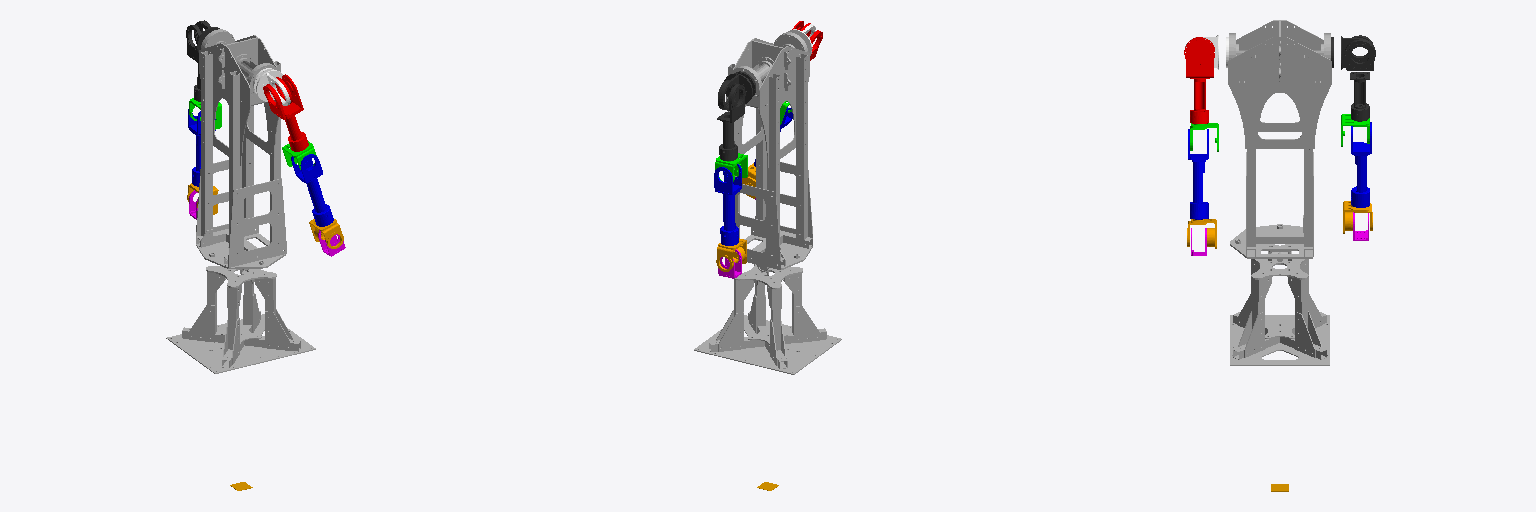
robot.urdf — neurobotboth:
<robot
  name="neurobotboth">
  <link 
    name="base">
    <visual>
    <origin rpy="0 0 0" xyz="0 0 0"/>
    <geometry>
       <box size="0.05 0.05 0.001"/>
    </geometry>
    <material name="TransparentGreen"/>
    </visual>
  </link>
  <link
    name="base_footprint">
    <inertial>
      <origin
        xyz="0 -1.11022302462516E-16 0.2335"
        rpy="0 0 0" />
      <mass
        value="4.43804940190996" />
      <inertia
        ixx="0.0840137545279562"
        ixy="0"
        ixz="-5.53246823430371E-34"
        iyy="0.0840137545279562"
        iyz="1.8876145408187E-34"
        izz="0.00671254972038881" />
    </inertial>
    <visual>
      <origin
        xyz="0 0 0"
        rpy="0 0 0" />
      <geometry>
        <mesh
          filename="package://neurobotboth/meshes/base_footprint.stl" />
      </geometry>
      <material
        name="">
        <color
          rgba="1 1 1 1" />
      </material>
    </visual>
    <collision>
      <origin
        xyz="0 0 0"
        rpy="0 0 0" />
      <geometry>
        <mesh
          filename="package://neurobotboth/meshes/base_footprint.stl" />
      </geometry>
    </collision>
  </link>
  <joint name="joint_footprint" type="fixed">
    <origin rpy="0 0 0" xyz="0 0 0"/>
    <parent link="base"/>
    <child link="base_footprint"/>
  </joint>
  <link
    name="base_link">
    <inertial>
      <origin
        xyz="-0.00215359092121389 -0.000793224055706809 0.502026253045581"
        rpy="0 0 0" />
      <mass
        value="2.59431720777893" />
      <inertia
        ixx="0.3523313561318"
        ixy="0.000539614748826474"
        ixz="0.00816862739544269"
        iyy="0.351242034325023"
        iyz="-0.00125197561514708"
        izz="0.0345525607669928" />
    </inertial>
    <visual>
      <origin
        xyz="0 0 0"
        rpy="0 0 0" />
      <geometry>
        <mesh
          filename="package://neurobotboth/meshes/base_link.stl" />
      </geometry>
      <material
        name="">
        <color
          rgba="0.752941176470588 0.752941176470588 0.752941176470588 1" />
      </material>
    </visual>
    <collision>
      <origin
        xyz="0 0 0"
        rpy="0 0 0" />
      <geometry>
        <mesh
          filename="package://neurobotboth/meshes/base_link.stl" />
      </geometry>
    </collision>
  </link>
  <joint
    name="joint_base"
    type="fixed">
    <origin
      xyz="-0.0056343 4.8341E-05 0.467"
      rpy="0 0 0" />
    <parent
      link="base_footprint" />
    <child
      link="base_link" />
    <axis
      xyz="0 0 0" />
  </joint>
  <link
    name="right_arm_link_0">
  </link>
  <joint
    name="right_arm_joint_0"
    type="fixed">
    <origin
      xyz="0.0056343 -0.14605 0.919"
      rpy="1.5708 0.30972 -3.1416" />
    <parent
      link="base_link" />
    <child
      link="right_arm_link_0" />
    <axis
      xyz="0 0 0" />
  </joint>
  <link
    name="right_arm_link_1">
    <inertial>
      <origin
        xyz="-0.000327200298236963 -1.66533453693773E-16 -0.0359628362808107"
        rpy="0 0 0" />
      <mass
        value="0.107035798022397" />
      <inertia
        ixx="0.000188785968780782"
        ixy="-7.68864379368039E-21"
        ixz="-1.68236451485131E-06"
        iyy="0.000157075498484323"
        iyz="-2.07212052166984E-19"
        izz="0.000125761271549389" />
    </inertial>
    <visual>
      <origin
        xyz="0 0 0"
        rpy="0 0 0" />
      <geometry>
        <mesh
          filename="package://neurobotboth/meshes/right_arm_link_1.stl" />
      </geometry>
      <material
        name="">
        <color
          rgba="1 1 1 1" />
      </material>
    </visual>
    <collision>
      <origin
        xyz="0 0 0"
        rpy="0 0 0" />
      <geometry>
        <mesh
          filename="package://neurobotboth/meshes/right_arm_link_1.stl" />
      </geometry>
    </collision>
  </link>
  <joint
    name="right_arm_joint_1"
    type="revolute">
    <origin
      xyz="0 0 -0.001"
      rpy="0 0 0" />
    <parent
      link="right_arm_link_0" />
    <child
      link="right_arm_link_1" />
    <axis
      xyz="0 0 1" />
    <limit
      lower="-1.57"
      upper="1.57"
      effort="2"
      velocity="0.5" />
  </joint>
  <link
    name="right_arm_link_2">
    <inertial>
      <origin
        xyz="0.0650617938997774 -3.74272418668387E-06 0.00884791201131907"
        rpy="0 0 0" />
      <mass
        value="0.255566385563294" />
      <inertia
        ixx="0.00024551385027943"
        ixy="1.05634262378188E-07"
        ixz="1.70511900676993E-05"
        iyy="0.00127080560186476"
        iyz="1.1028518537721E-09"
        izz="0.00126072659055335" />
    </inertial>
    <visual>
      <origin
        xyz="0 0 0"
        rpy="0 0 0" />
      <geometry>
        <mesh
          filename="package://neurobotboth/meshes/right_arm_link_2.stl" />
      </geometry>
      <material
        name="">
        <color
          rgba="1 0 0 1" />
      </material>
    </visual>
    <collision>
      <origin
        xyz="0 0 0"
        rpy="0 0 0" />
      <geometry>
        <mesh
          filename="package://neurobotboth/meshes/right_arm_link_2.stl" />
      </geometry>
    </collision>
  </link>
  <joint
    name="right_arm_joint_2"
    type="revolute">
    <origin
      xyz="0.004 0 -0.084"
      rpy="1.5708 -2.1829E-14 -1.5708" />
    <parent
      link="right_arm_link_1" />
    <child
      link="right_arm_link_2" />
    <axis
      xyz="0 0 -1" />
    <limit
      lower="-0.78"
      upper="0.78"
      effort="2"
      velocity="0.5" />
  </joint>
  <link
    name="right_arm_link_3">
    <inertial>
      <origin
        xyz="0.0153020226123044 -5.81423797996194E-13 -0.0262980249667745"
        rpy="0 0 0" />
      <mass
        value="0.0789715110556532" />
      <inertia
        ixx="7.19666232277633E-05"
        ixy="1.68404549474258E-15"
        ixz="1.68863370887187E-05"
        iyy="0.000116283270534729"
        iyz="-6.41649606133214E-16"
        izz="0.000104168336512131" />
    </inertial>
    <visual>
      <origin
        xyz="0 0 0"
        rpy="0 0 0" />
      <geometry>
        <mesh
          filename="package://neurobotboth/meshes/right_arm_link_3.stl" />
      </geometry>
      <material
        name="">
        <color
          rgba="0 1 0.00392156862745098 1" />
      </material>
    </visual>
    <collision>
      <origin
        xyz="0 0 0"
        rpy="0 0 0" />
      <geometry>
        <mesh
          filename="package://neurobotboth/meshes/right_arm_link_3.stl" />
      </geometry>
    </collision>
  </link>
  <joint
    name="right_arm_joint_3"
    type="revolute">
    <origin
      xyz="0.204 0 0.01"
      rpy="-1.5708 3.8018E-11 1.5708" />
    <parent
      link="right_arm_link_2" />
    <child
      link="right_arm_link_3" />
    <axis
      xyz="0.0048522 0 0.99999" />
    <limit
      lower="-3.14"
      upper="3.14"
      effort="2"
      velocity="0.5" />
  </joint>
  <link
    name="right_arm_link_4">
    <inertial>
      <origin
        xyz="0.110286427763568 -2.47783699109938E-05 0.0247402908898989"
        rpy="0 0 0" />
      <mass
        value="0.1635924370838" />
      <inertia
        ixx="9.17176019284682E-05"
        ixy="3.47472024491752E-07"
        ixz="1.44062358020974E-05"
        iyy="0.000940638096634904"
        iyz="-9.43821184593951E-09"
        izz="0.000935522761596194" />
    </inertial>
    <visual>
      <origin
        xyz="0 0 0"
        rpy="0 0 0" />
      <geometry>
        <mesh
          filename="package://neurobotboth/meshes/right_arm_link_4.stl" />
      </geometry>
      <material
        name="">
        <color
          rgba="0 0 1 1" />
      </material>
    </visual>
    <collision>
      <origin
        xyz="0 0 0"
        rpy="0 0 0" />
      <geometry>
        <mesh
          filename="package://neurobotboth/meshes/right_arm_link_4.stl" />
      </geometry>
    </collision>
  </link>
  <joint
    name="right_arm_joint_4"
    type="revolute">
    <origin
      xyz="0.02 0 -0.051"
      rpy="3.1416 1.5708 0" />
    <parent
      link="right_arm_link_3" />
    <child
      link="right_arm_link_4" />
    <axis
      xyz="0 0 -1" />
    <limit
      lower="-1.57"
      upper="1.57"
      effort="2"
      velocity="0.5" />
  </joint>
  <link
    name="right_arm_link_5">
    <inertial>
      <origin
        xyz="-2.02615701994091E-15 0.0169801683752191 -0.0349097801090397"
        rpy="0 0 0" />
      <mass
        value="0.0980468372542702" />
      <inertia
        ixx="0.000146622459303631"
        ixy="1.29985969140156E-08"
        ixz="-5.66526182695182E-11"
        iyy="9.25528351448713E-05"
        iyz="2.22452497831366E-05"
        izz="0.000108961772352676" />
    </inertial>
    <visual>
      <origin
        xyz="0 0 0"
        rpy="0 0 0" />
      <geometry>
        <mesh
          filename="package://neurobotboth/meshes/right_arm_link_5.stl" />
      </geometry>
      <material
        name="">
        <color
          rgba="1 0.666666666666667 0 1" />
      </material>
    </visual>
    <collision>
      <origin
        xyz="0 0 0"
        rpy="0 0 0" />
      <geometry>
        <mesh
          filename="package://neurobotboth/meshes/right_arm_link_5.stl" />
      </geometry>
    </collision>
  </link>
  <joint
    name="right_arm_joint_5"
    type="revolute">
    <origin
      xyz="0.2275 0 0.022412"
      rpy="-1.5664 -3.7816E-11 1.5708" />
    <parent
      link="right_arm_link_4" />
    <child
      link="right_arm_link_5" />
    <axis
      xyz="0 0 1" />
    <limit
      lower="-3.14"
      upper="3.14"
      effort="2"
      velocity="0.5" />
  </joint>
  <link
    name="right_arm_link_6">
    <inertial>
      <origin
        xyz="0.0287664746286838 -7.08211267408387E-13 0.0186548764386218"
        rpy="0 0 0" />
      <mass
        value="0.0342933650278287" />
      <inertia
        ixx="2.12655468606329E-05"
        ixy="-2.18723494617966E-17"
        ixz="5.76746741176577E-07"
        iyy="2.81264708549031E-05"
        iyz="8.96065566988484E-17"
        izz="2.57654425067357E-05" />
    </inertial>
    <visual>
      <origin
        xyz="0 0 0"
        rpy="0 0 0" />
      <geometry>
        <mesh
          filename="package://neurobotboth/meshes/right_arm_link_6.stl" />
      </geometry>
      <material
        name="">
        <color
          rgba="1 0 1 1" />
      </material>
    </visual>
    <collision>
      <origin
        xyz="0 0 0"
        rpy="0 0 0" />
      <geometry>
        <mesh
          filename="package://neurobotboth/meshes/right_arm_link_6.stl" />
      </geometry>
    </collision>
  </link>
  <joint
    name="right_arm_joint_6"
    type="revolute">
    <origin
      xyz="0 0.017758 -0.055578"
      rpy="-5.1124E-11 1.5664 -1.5708" />
    <parent
      link="right_arm_link_5" />
    <child
      link="right_arm_link_6" />
    <axis
      xyz="0 0 -1" />
    <limit
      lower="-1.57"
      upper="1.57"
      effort="2"
      velocity="0.5" />
  </joint>
  <link
    name="left_arm_link_0">
  </link>
  <joint
    name="left_arm_joint_0"
    type="fixed">
    <origin
      xyz="0.0056343 0.14595 0.917"
      rpy="1.5734 -0.018325 3.0023" />
    <parent
      link="base_link" />
    <child
      link="left_arm_link_0" />
    <axis
      xyz="0 0 0" />
  </joint>
  <link
    name="left_arm_Link_1">
    <inertial>
      <origin
        xyz="0.00466685580630952 -1.11022302462516E-15 0.0356602455160837"
        rpy="0 0 0" />
      <mass
        value="0.107035798022396" />
      <inertia
        ixx="0.000188034571467992"
        ixy="-1.1808830424807E-20"
        ixz="-7.04431263850407E-06"
        iyy="0.000157075498483852"
        iyz="-1.18319914819585E-19"
        izz="0.000126512668861709" />
    </inertial>
    <visual>
      <origin
        xyz="0 0 0"
        rpy="0 0 0" />
      <geometry>
        <mesh
          filename="package://neurobotboth/meshes/left_arm_Link_1.stl" />
      </geometry>
      <material
        name="">
        <color
          rgba="0.250980392156863 0.250980392156863 0.250980392156863 1" />
      </material>
    </visual>
    <collision>
      <origin
        xyz="0 0 0"
        rpy="0 0 0" />
      <geometry>
        <mesh
          filename="package://neurobotboth/meshes/left_arm_Link_1.stl" />
      </geometry>
    </collision>
  </link>
  <joint
    name="left_arm_joint_1"
    type="revolute">
    <origin
      xyz="0 0 0.001"
      rpy="0 0 0" />
    <parent
      link="left_arm_link_0" />
    <child
      link="left_arm_Link_1" />
    <axis
      xyz="0.13878 0 0.99032" />
    <limit
      lower="-1.57"
      upper="1.57"
      effort="2"
      velocity="0.5" />
  </joint>
  <link
    name="left_arm_link_2">
    <inertial>
      <origin
        xyz="0.0788175837647441 -5.95414185977639E-06 0.000165336903578506"
        rpy="0 0 0" />
      <mass
        value="0.160646914181548" />
      <inertia
        ixx="0.000125127504737375"
        ixy="9.24766480165639E-08"
        ixz="-7.06597547048381E-05"
        iyy="0.00102428232334361"
        iyz="9.40786019061417E-09"
        izz="0.00104065620236747" />
    </inertial>
    <visual>
      <origin
        xyz="0 0 0"
        rpy="0 0 0" />
      <geometry>
        <mesh
          filename="package://neurobotboth/meshes/left_arm_link_2.stl" />
      </geometry>
      <material
        name="">
        <color
          rgba="0.250980392156863 0.250980392156863 0.250980392156863 1" />
      </material>
    </visual>
    <collision>
      <origin
        xyz="0 0 0"
        rpy="0 0 0" />
      <geometry>
        <mesh
          filename="package://neurobotboth/meshes/left_arm_link_2.stl" />
      </geometry>
    </collision>
  </link>
  <joint
    name="left_arm_joint_2"
    type="revolute">
    <origin
      xyz="0.015619 0 0.082632"
      rpy="1.4316 -1.5635E-13 -1.5708" />
    <parent
      link="left_arm_Link_1" />
    <child
      link="left_arm_link_2" />
    <axis
      xyz="0 0 -1" />
    <limit
      lower="-0.78"
      upper="0.78"
      effort="2"
      velocity="0.5" />
  </joint>
  <link
    name="left_arm_link_3">
    <inertial>
      <origin
        xyz="0.000486585292986369 0.0153020226121923 -0.0262935230028779"
        rpy="0 0 0" />
      <mass
        value="0.0789715110556529" />
      <inertia
        ixx="0.0001162791229741"
        ixy="-3.12443359916851E-07"
        ixz="2.24120996575773E-07"
        iyy="7.19666232277628E-05"
        iyz="1.68834463134955E-05"
        izz="0.000104172484072759" />
    </inertial>
    <visual>
      <origin
        xyz="0 0 0"
        rpy="0 0 0" />
      <geometry>
        <mesh
          filename="package://neurobotboth/meshes/left_arm_link_3.stl" />
      </geometry>
      <material
        name="">
        <color
          rgba="0 1 0.00392156862745098 1" />
      </material>
    </visual>
    <collision>
      <origin
        xyz="0 0 0"
        rpy="0 0 0" />
      <geometry>
        <mesh
          filename="package://neurobotboth/meshes/left_arm_link_3.stl" />
      </geometry>
    </collision>
  </link>
  <joint
    name="left_arm_joint_3"
    type="revolute">
    <origin
      xyz="0.204 0 0.01"
      rpy="-3.1416 1.5523 1.2227E-10" />
    <parent
      link="left_arm_link_2" />
    <child
      link="left_arm_link_3" />
    <axis
      xyz="-0.018503 0 0.99983" />
    <limit
      lower="-3.14"
      upper="3.14"
      effort="2"
      velocity="0.5" />
  </joint>
  <link
    name="left_arm_link_4">
    <inertial>
      <origin
        xyz="0.110286427736446 -2.47783948261193E-05 -0.0142597091140066"
        rpy="0 0 0" />
      <mass
        value="0.163592437060337" />
      <inertia
        ixx="9.17176023887561E-05"
        ixy="3.47471633503439E-07"
        ixz="1.44062356695314E-05"
        iyy="0.000940638096231336"
        iyz="-9.43767718859236E-09"
        izz="0.000935522761509331" />
    </inertial>
    <visual>
      <origin
        xyz="0 0 0"
        rpy="0 0 0" />
      <geometry>
        <mesh
          filename="package://neurobotboth/meshes/left_arm_link_4.stl" />
      </geometry>
      <material
        name="">
        <color
          rgba="0 0 1 1" />
      </material>
    </visual>
    <collision>
      <origin
        xyz="0 0 0"
        rpy="0 0 0" />
      <geometry>
        <mesh
          filename="package://neurobotboth/meshes/left_arm_link_4.stl" />
      </geometry>
    </collision>
  </link>
  <joint
    name="left_arm_joint_4"
    type="revolute">
    <origin
      xyz="0.00094364 -0.019 -0.050991"
      rpy="1.5708 1.5523 3.715E-14" />
    <parent
      link="left_arm_link_3" />
    <child
      link="left_arm_link_4" />
    <axis
      xyz="0 0 1" />
    <limit
      lower="-1.57"
      upper="1.57"
      effort="2"
      velocity="0.5" />
  </joint>
  <link
    name="left_arm_link_5">
    <inertial>
      <origin
        xyz="-1.74860126378462E-15 0.0171321551873778 -0.0353354435015221"
        rpy="0 0 0" />
      <mass
        value="0.0980468372542703" />
      <inertia
        ixx="0.000146622459303631"
        ixy="1.29987203700121E-08"
        ixz="-2.26275918308371E-18"
        iyy="9.23592447263128E-05"
        iyz="2.21728899253533E-05"
        izz="0.000109155362771234" />
    </inertial>
    <visual>
      <origin
        xyz="0 0 0"
        rpy="0 0 0" />
      <geometry>
        <mesh
          filename="package://neurobotboth/meshes/left_arm_link_5.stl" />
      </geometry>
      <material
        name="">
        <color
          rgba="1 0.666666666666667 0 1" />
      </material>
    </visual>
    <collision>
      <origin
        xyz="0 0 0"
        rpy="0 0 0" />
      <geometry>
        <mesh
          filename="package://neurobotboth/meshes/left_arm_link_5.stl" />
      </geometry>
    </collision>
  </link>
  <joint
    name="left_arm_joint_5"
    type="revolute">
    <origin
      xyz="0.227 0 -0.016588"
      rpy="-1.5708 1.4988E-14 1.5708" />
    <parent
      link="left_arm_link_4" />
    <child
      link="left_arm_link_5" />
    <axis
      xyz="0 0 1" />
    <limit
      lower="-3.14"
      upper="3.14"
      effort="2"
      velocity="0.5" />
  </joint>
  <link
    name="left_arm_link_6">
    <inertial>
      <origin
        xyz="0.028766474628684 0.00258890688673372 0.0184743599638002"
        rpy="0 0 0" />
      <mass
        value="0.0342933650278285" />
      <inertia
        ixx="2.1265546860633E-05"
        ixy="8.00403913178448E-08"
        ixz="5.7116577209727E-07"
        iyy="2.80809983048714E-05"
        iyz="-3.24490719253941E-07"
        izz="2.58109150567672E-05" />
    </inertial>
    <visual>
      <origin
        xyz="0 0 0"
        rpy="0 0 0" />
      <geometry>
        <mesh
          filename="package://neurobotboth/meshes/left_arm_link_6.stl" />
      </geometry>
      <material
        name="">
        <color
          rgba="1 0 1 1" />
      </material>
    </visual>
    <collision>
      <origin
        xyz="0 0 0"
        rpy="0 0 0" />
      <geometry>
        <mesh
          filename="package://neurobotboth/meshes/left_arm_link_6.stl" />
      </geometry>
    </collision>
  </link>
  <joint
    name="left_arm_joint_6"
    type="revolute">
    <origin
      xyz="0 0.018 -0.056"
      rpy="1.71 1.5708 0" />
    <parent
      link="left_arm_link_5" />
    <child
      link="left_arm_link_6" />
    <axis
      xyz="0 0.13878 0.99032" />
    <limit
      lower="-1.57"
      upper="1.57"
      effort="2"
      velocity="0.5" />
  </joint>
</robot>

--- Facts derived from the render (not from the file) ---
3 views of the same robot in one strip: view 1: azimuth 30°, elevation 25°; view 2: azimuth 150°, elevation 25°; view 3: azimuth 270°, elevation 25° (orthographic).
Robot: neurobotboth — 17 links, 16 joints (12 revolute, 4 fixed); root link base; default pose: all joints at 0.
Visible links, largest first — view 1: base_link, right_arm_link_2, right_arm_link_4, right_arm_link_1, left_arm_link_2, left_arm_link_4; view 2: base_link, left_arm_link_4, left_arm_link_2, left_arm_Link_1, left_arm_link_5; view 3: base_link, right_arm_link_2, left_arm_link_2, left_arm_link_4, right_arm_link_4.
Link boxes in pixels (x1,y1,x2,y2): base_link: (166,29,315,373); right_arm_link_2: (263,74,308,151); right_arm_link_4: (291,154,333,226); right_arm_link_1: (253,68,290,105); left_arm_link_2: (186,20,210,101); left_arm_link_4: (188,109,215,186); base_link: (694,32,841,374); left_arm_link_4: (714,164,741,245); left_arm_link_2: (717,80,745,160); left_arm_Link_1: (720,71,755,110); left_arm_link_5: (716,238,746,271); base_link: (1228,20,1331,365); right_arm_link_2: (1184,37,1214,123); left_arm_link_2: (1344,35,1375,121); left_arm_link_4: (1351,122,1371,207); right_arm_link_4: (1188,129,1208,219).
Bounding box of the posed robot: 0.3846 × 0.5519 × 1.46 m (x, y, z).
13 mesh visuals loaded from 14 distinct referenced files (13 binary STL); not drawn: 1 (reference not matched to a file when rendering).